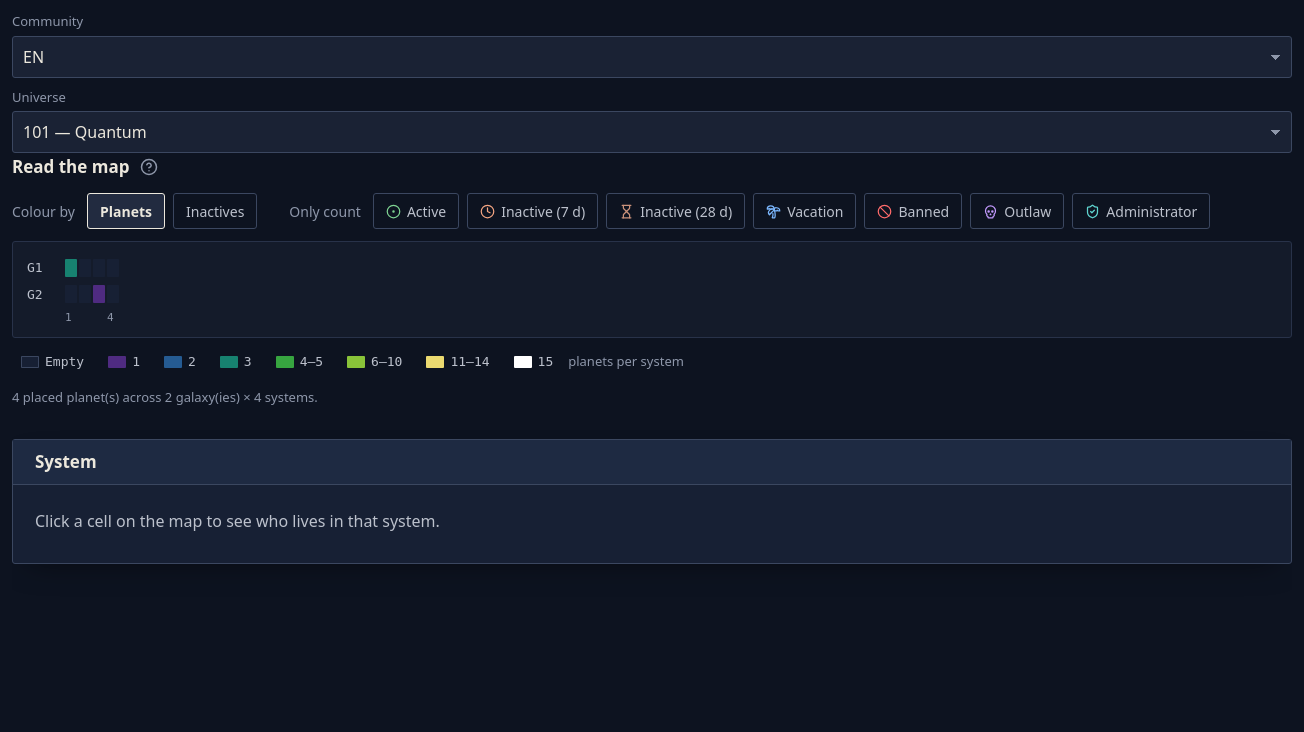
Test: <GalaxyMap /> › lists who lives in a system when its cell is clicked
Click the button named "1:1 —".
click(71, 268)  # box [65,259,77,277]
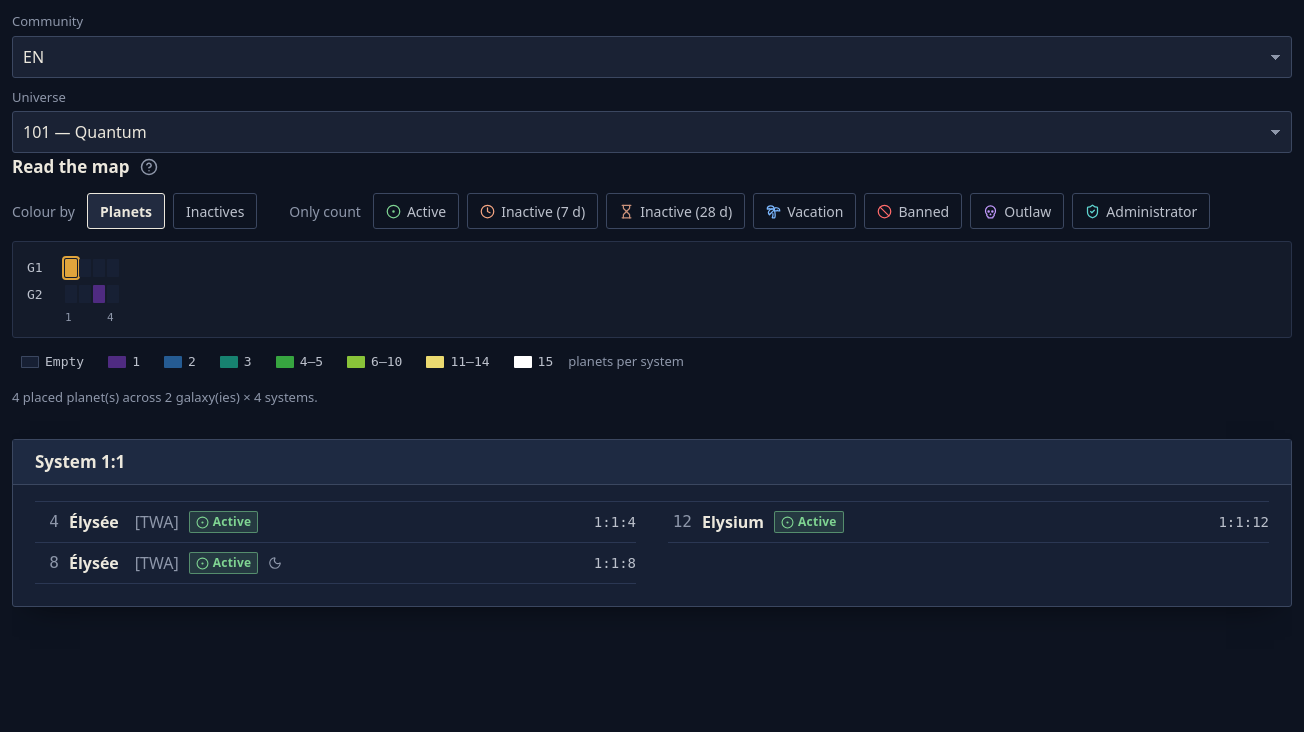
Expected: the heading "System 1:1" is shown, [35,452,125,472]
Expected: the links read "1:1:4", "1:1:8", "1:1:12", in this order, [594,512,636,533]; [594,553,636,574]; [1218,512,1269,533]
Expected: the text "Élysée" is shown 2 times, [69,510,119,534]; [69,551,119,575]
